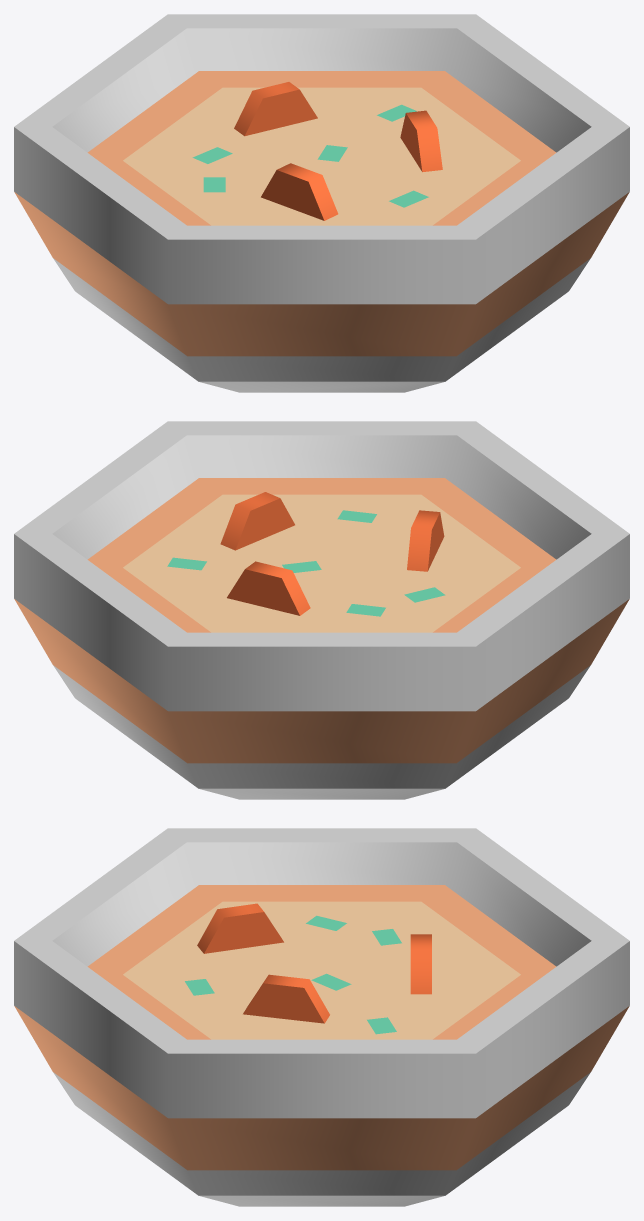
Rendered from bowlSoup.dae.
3 renders of one model, top to bottom at view 1: azimuth 30°, elevation 25°; view 2: azimuth 150°, elevation 25°; view 3: azimuth 270°, elevation 25°, orthographic.
Parts seen in each view (by area): view 1: bowlSoup; view 2: bowlSoup; view 3: bowlSoup.
Part boxes in pixels (x1,y1,x2,y2): bowlSoup: (14, 14, 629, 392); bowlSoup: (14, 421, 629, 799); bowlSoup: (14, 828, 629, 1206).
Size of the model in its own units: 0.5022 by 0.2138 by 0.5798.
